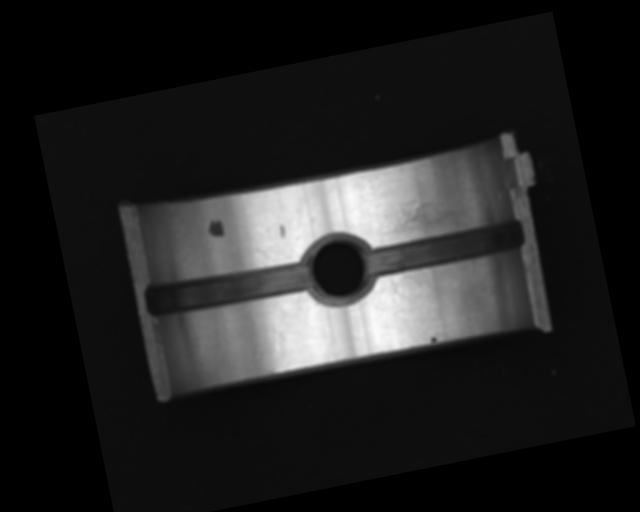blot: (206, 217, 226, 239), (429, 331, 441, 344)
bruise: (277, 224, 286, 238)
gap: (143, 251, 315, 320), (365, 221, 526, 279)
hole: (302, 229, 380, 311)
nick: (265, 298, 288, 352)
scratch: (373, 193, 481, 240)
